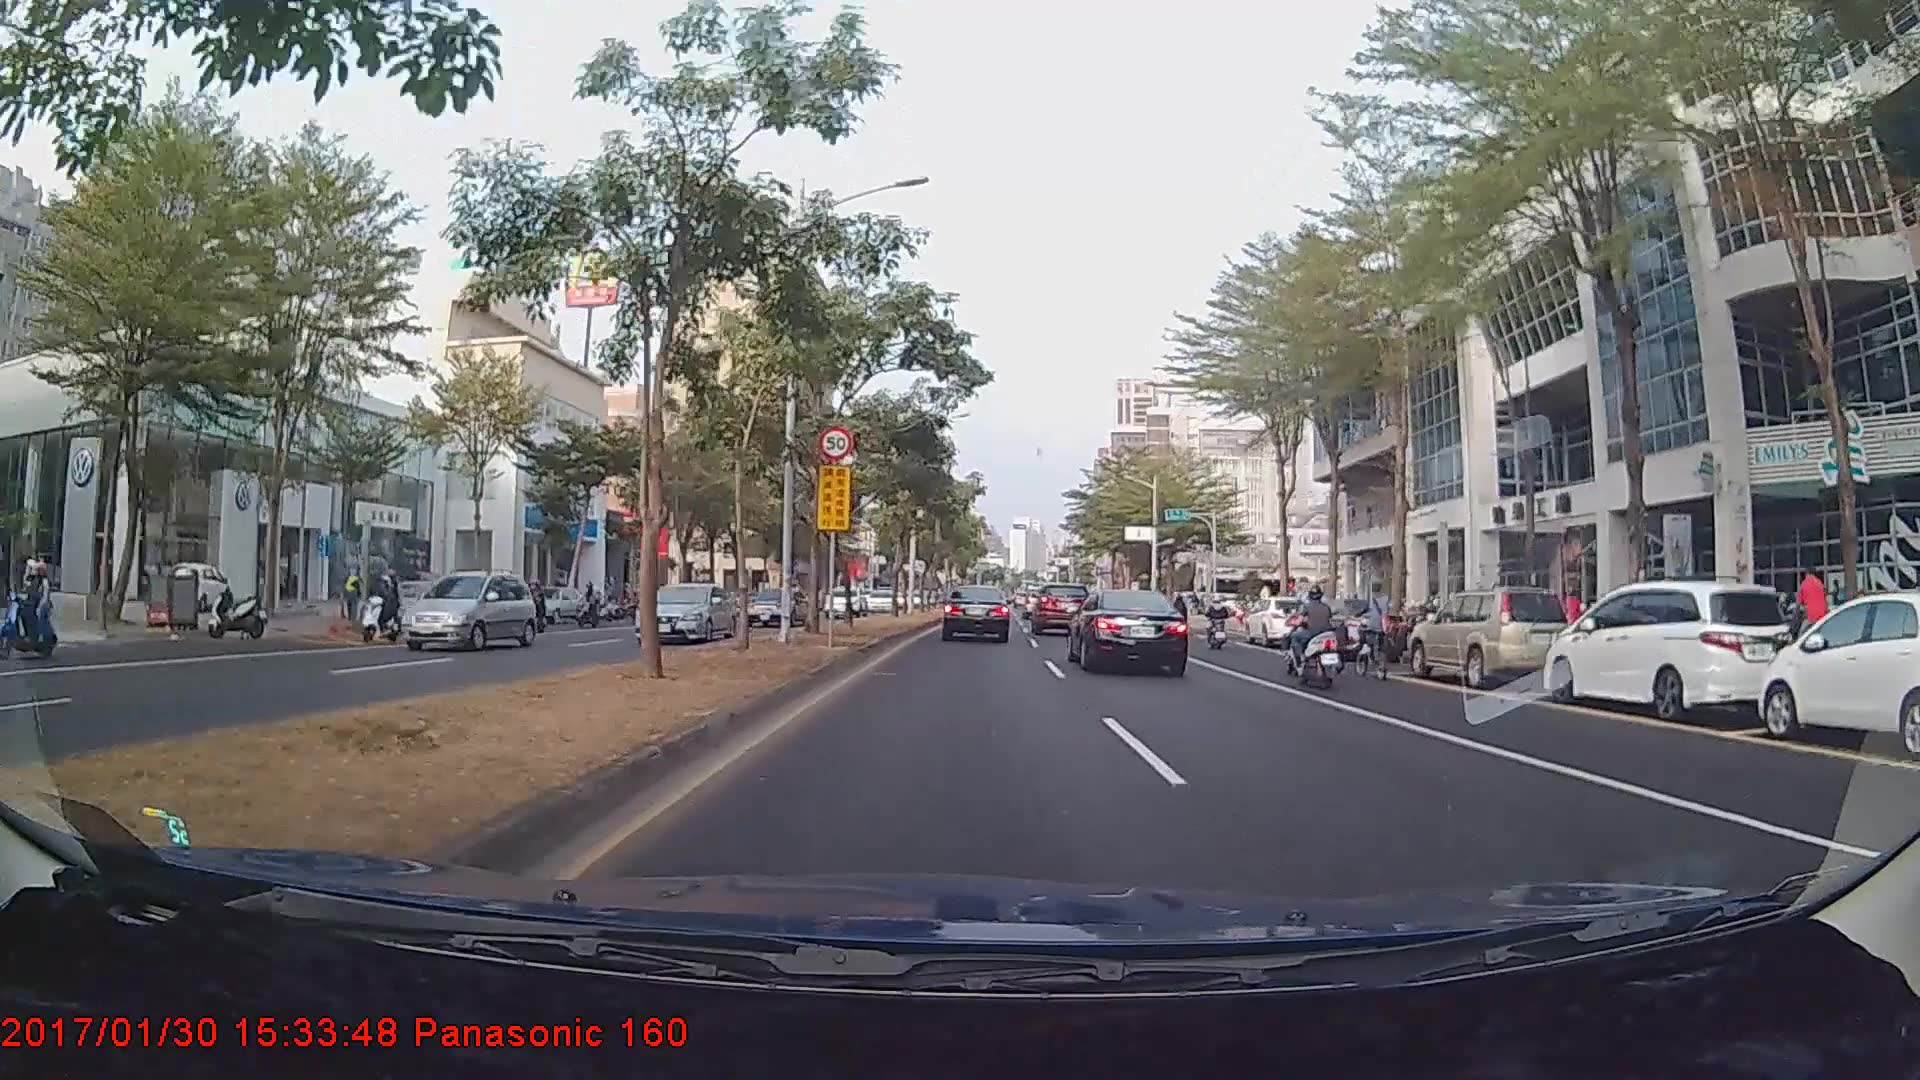rider: (1277, 582, 1353, 692), (1, 557, 65, 655), (1354, 579, 1399, 681), (358, 566, 405, 647), (1200, 594, 1234, 650)
vehicle: (1543, 578, 1793, 722), (1706, 592, 1920, 761), (1407, 590, 1571, 686), (397, 566, 542, 653), (1069, 584, 1190, 676), (1291, 598, 1401, 664), (631, 581, 738, 644), (940, 583, 1012, 643), (1247, 593, 1322, 648), (1029, 582, 1084, 634), (739, 586, 806, 627), (522, 585, 586, 621), (824, 583, 867, 616)
